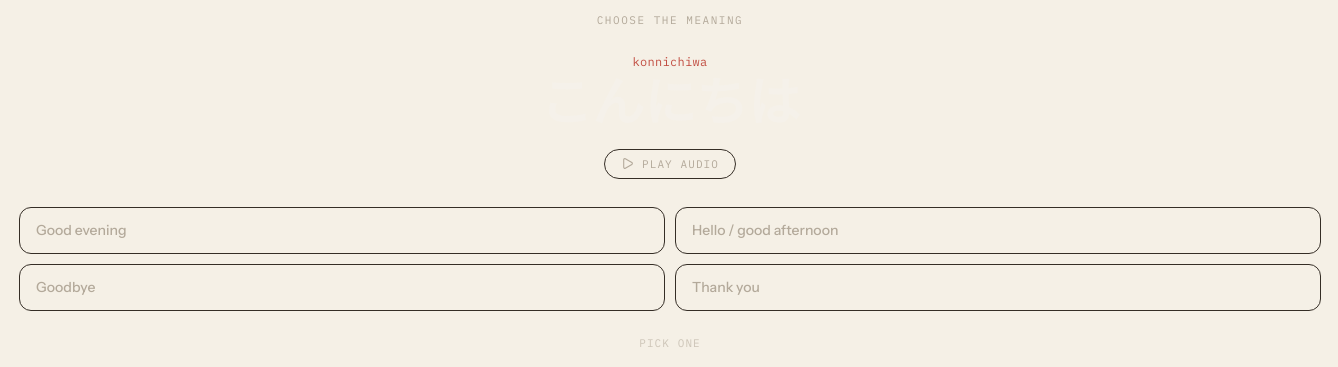
Test case: VocabStep › tells the visitor a wrong answer returns sooner
Click the button "Goodbye" at (66,287), box 19,264 -> 665,311
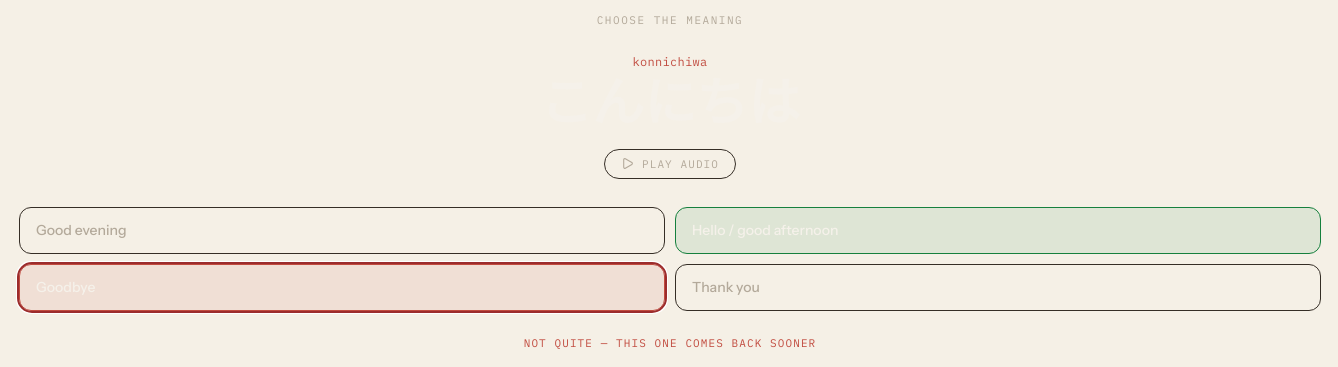
Check: the text "Not quite — this one comes back sooner" is shown, box 524,336 -> 816,350
